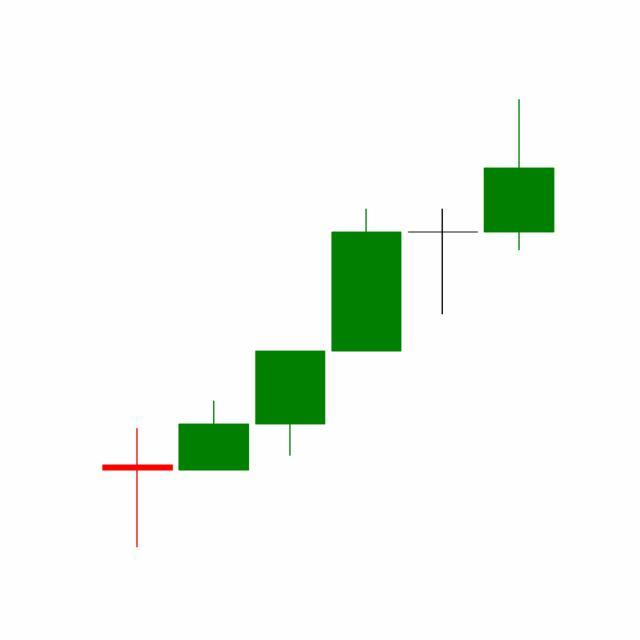Spinning Top: (404, 208, 482, 316)
